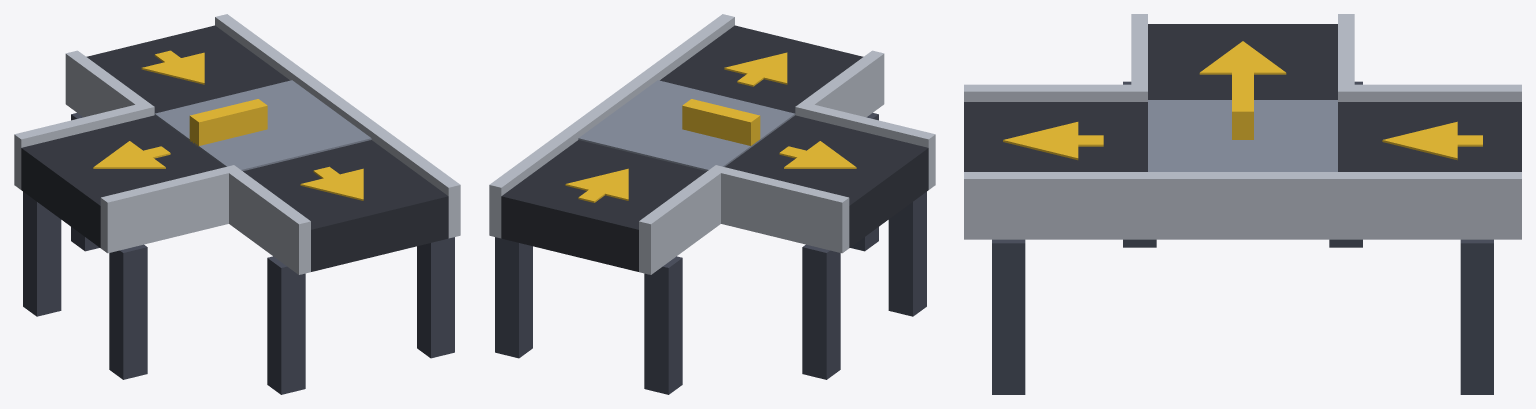
Rendered from conveyor-split-straight-left.glb.
The picture shows the model from 3 angles, left to right: view 1: azimuth 30°, elevation 25°; view 2: azimuth 150°, elevation 25°; view 3: azimuth 270°, elevation 25°; orthographic projection. The views are drawn at different scales.
Parts seen in each view (by area): view 1: conveyor-split-straight-left; view 2: conveyor-split-straight-left; view 3: conveyor-split-straight-left.
Part boxes in pixels (box(x1,y1,x2,y2)): conveyor-split-straight-left: box(14, 14, 460, 394); conveyor-split-straight-left: box(489, 14, 935, 394); conveyor-split-straight-left: box(964, 14, 1521, 394).
Size of the model in its own units: 0.715 by 0.46 by 1.
1 material, 1 textured.
